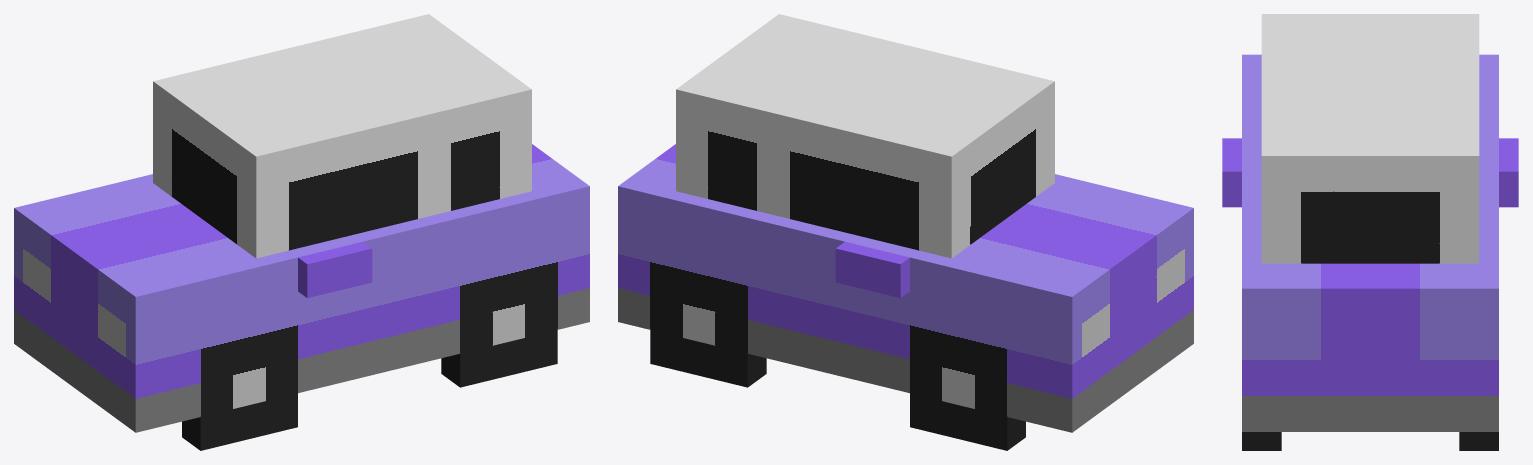
The model's file is veh_car_purple.dae.
The picture shows the model from 3 angles, left to right: view 1: azimuth 30°, elevation 25°; view 2: azimuth 150°, elevation 25°; view 3: azimuth 270°, elevation 25°; orthographic projection. The views are drawn at different scales.
Visible parts, largest first — view 1: veh_car_purple; view 2: veh_car_purple; view 3: veh_car_purple.
Part boxes in pixels (box(x1,y1,x2,y2)): veh_car_purple: box(14, 14, 589, 450); veh_car_purple: box(618, 14, 1193, 450); veh_car_purple: box(1222, 14, 1518, 450).
Size of the model in its own units: 2.8 by 1.6 by 1.5.
